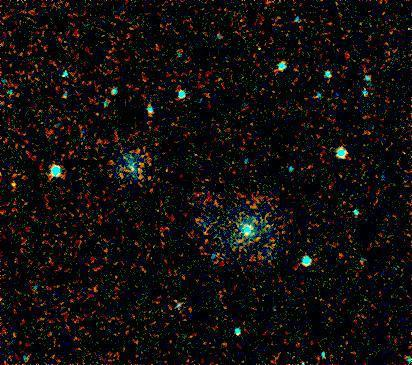star: (0, 165, 29, 195)
